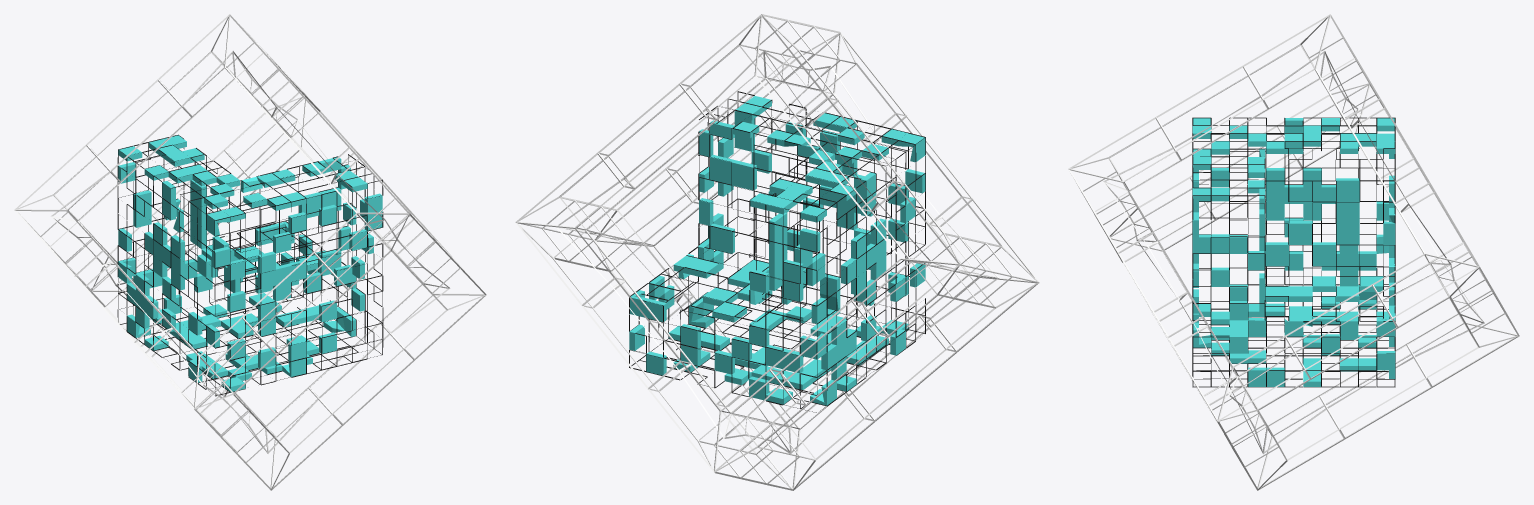
Rendered from Planet28.glb.
3 views of the same model, side by side, from view 1: azimuth 30°, elevation 25°; view 2: azimuth 150°, elevation 25°; view 3: azimuth 270°, elevation 25° (orthographic). The views are drawn at different scales.
Visible parts, largest first — view 1: Planet_28; view 2: Planet_28; view 3: Planet_28.
Part boxes in pixels (x1=…): Planet_28: x1=14, y1=14, x2=486, y2=490; Planet_28: x1=515, y1=14, x2=1039, y2=490; Planet_28: x1=1068, y1=14, x2=1519, y2=490.
Size of the model in its own units: 2.94 by 3.18 by 2.75.
